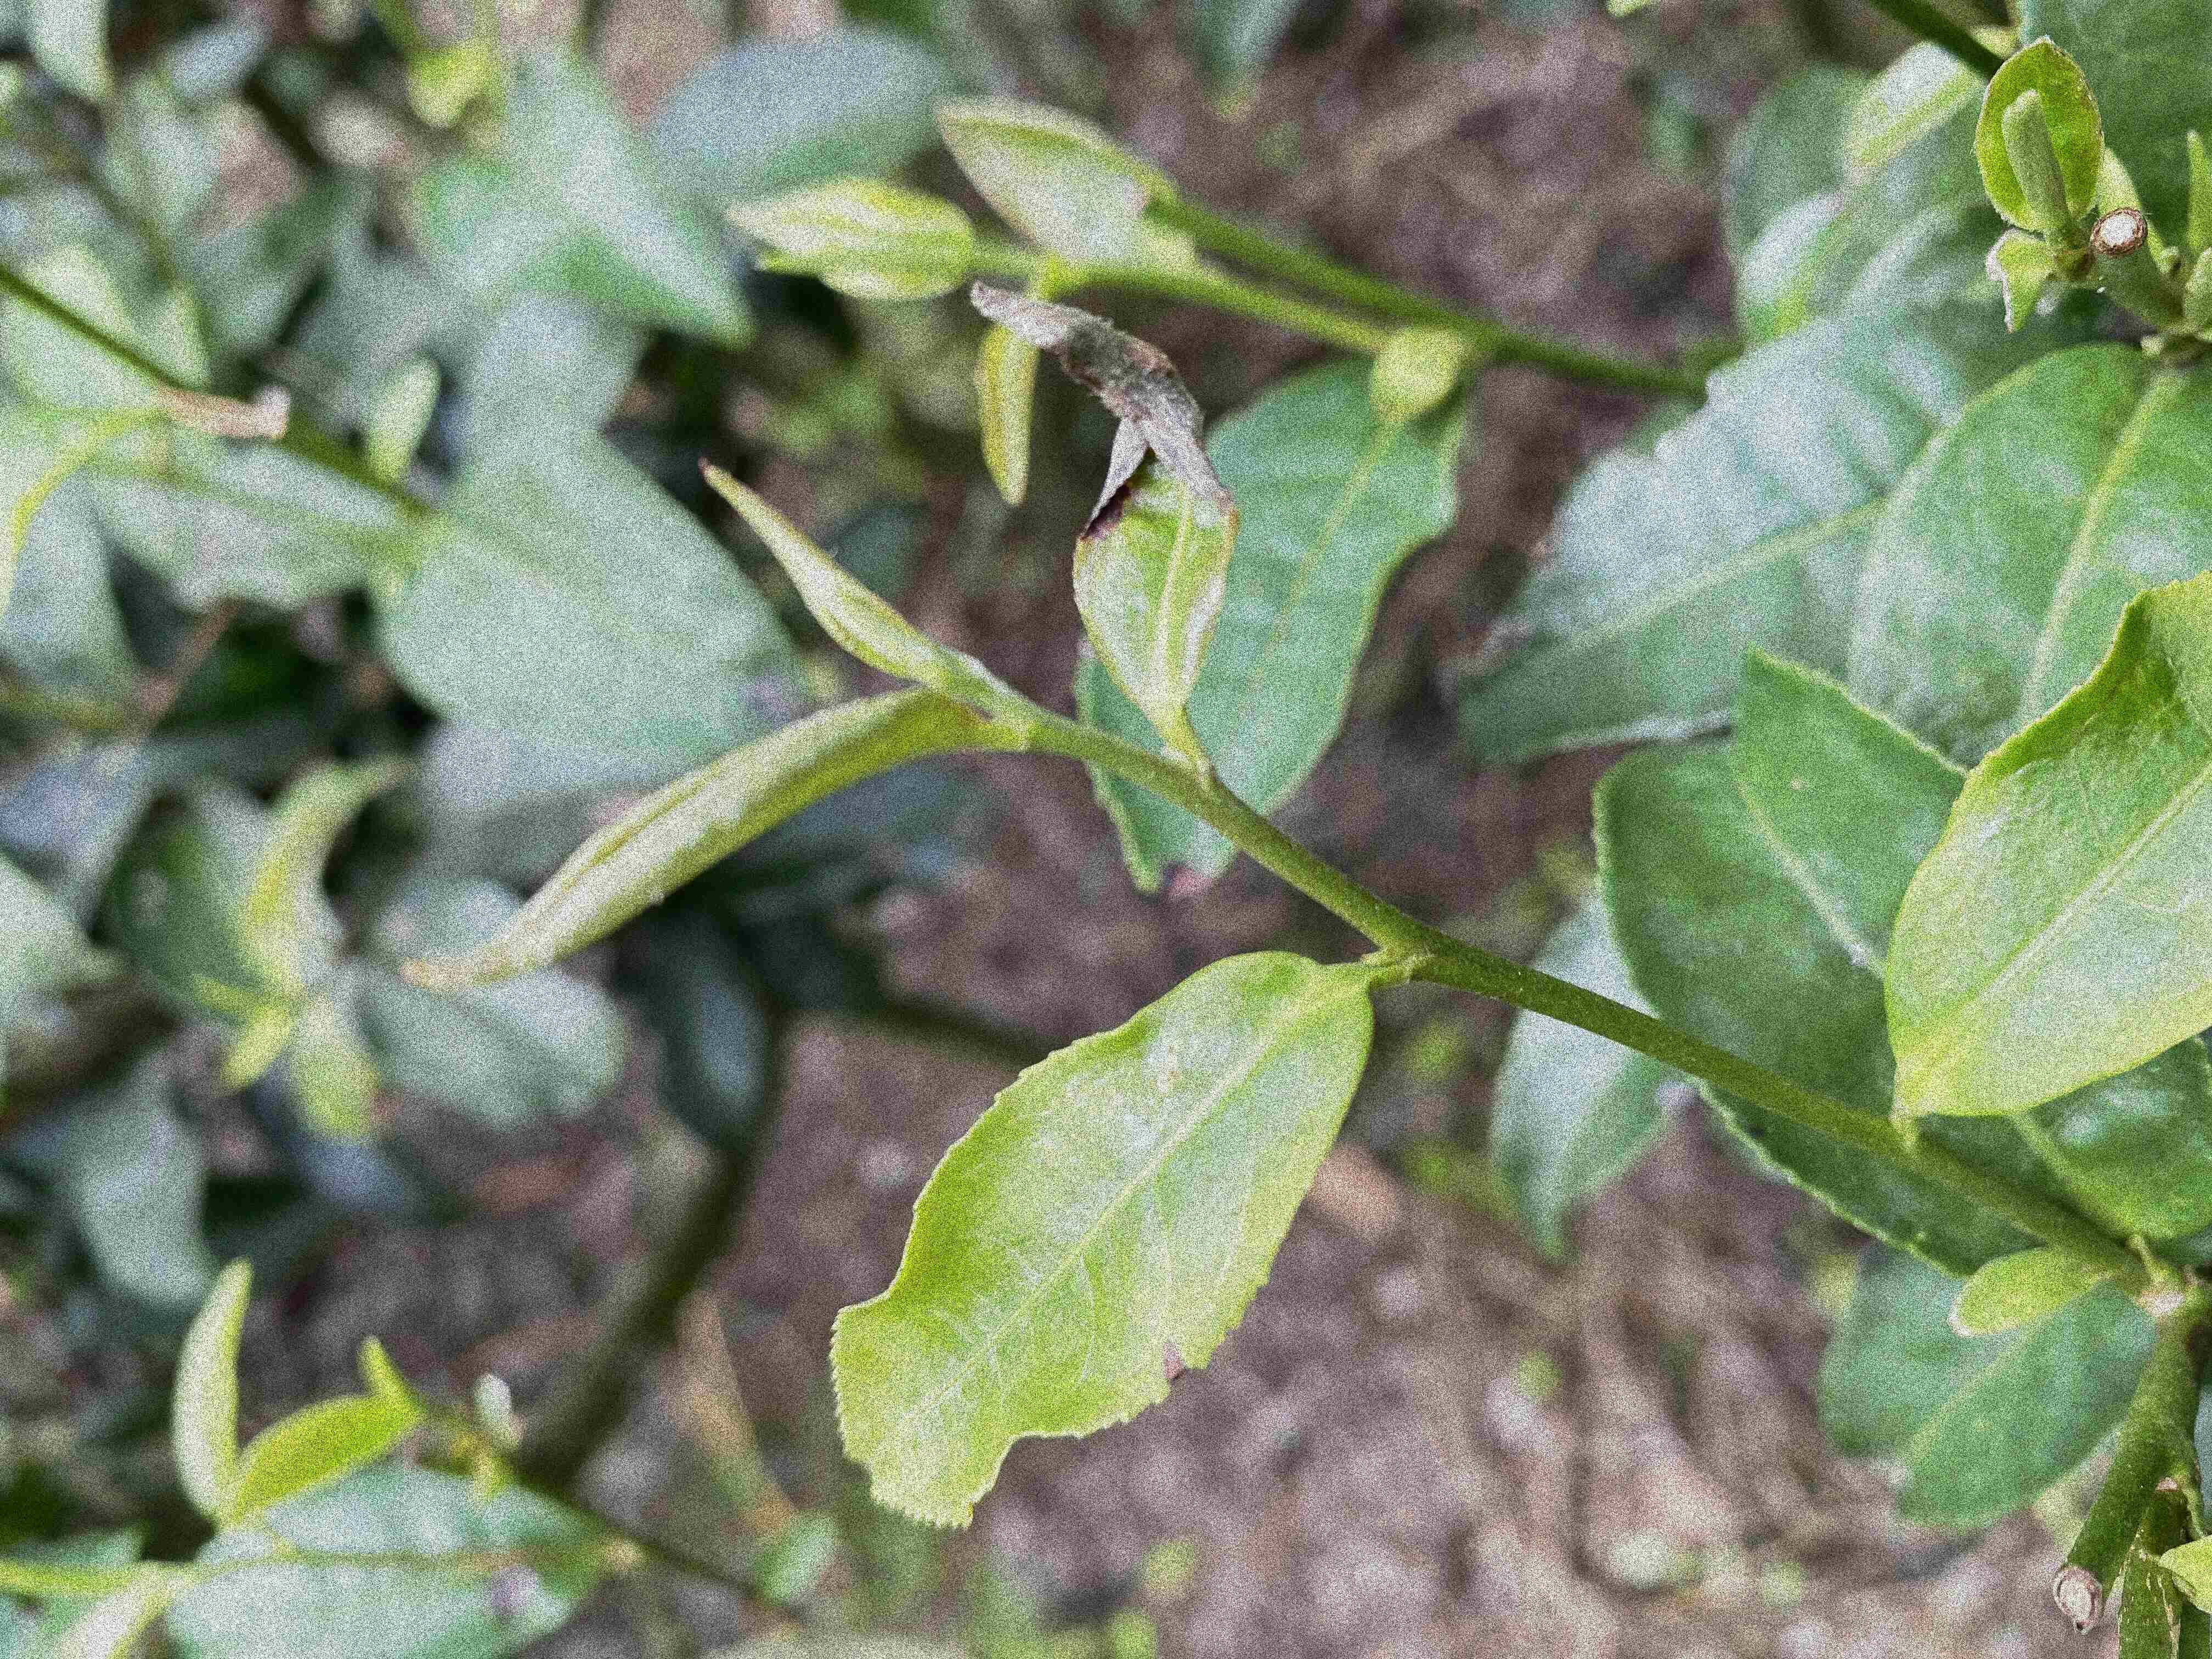healthy: (1883, 568, 2212, 1117)
tanju_high: (824, 948, 1376, 1530), (1071, 350, 1479, 903), (970, 279, 1245, 742)
